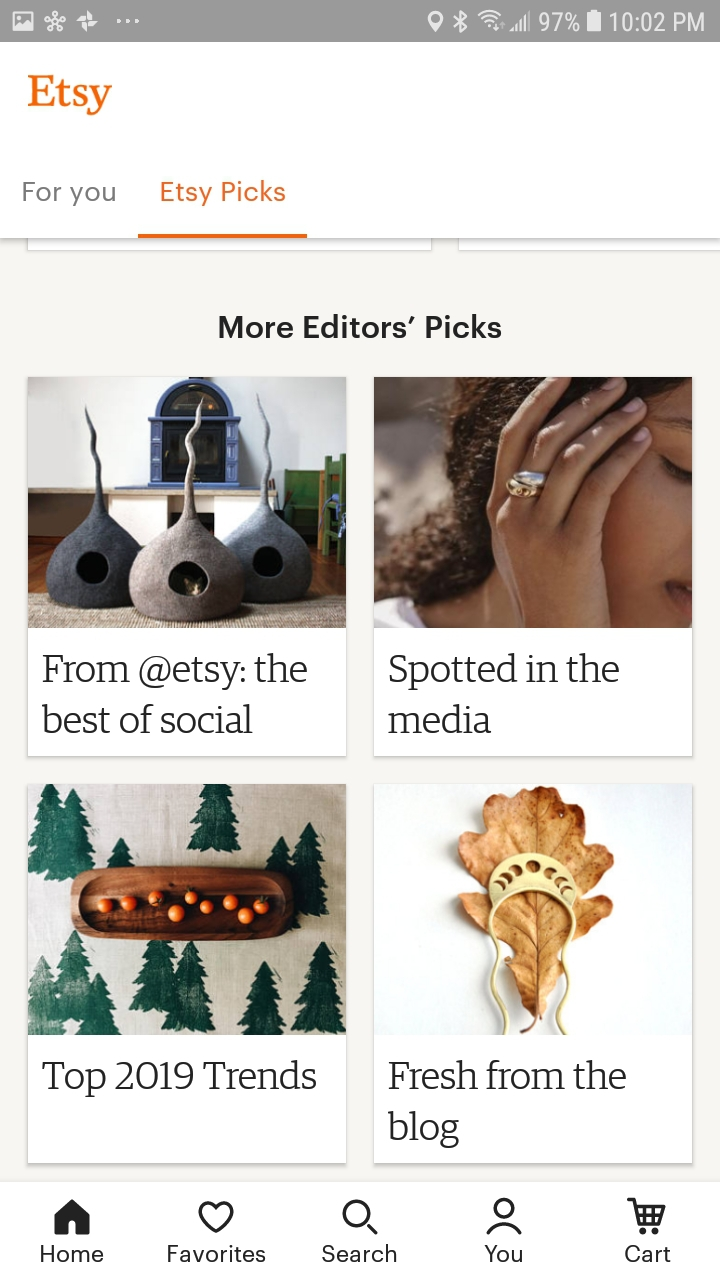Icon: (626, 1196, 666, 1235), (486, 1197, 523, 1236), (341, 1198, 378, 1235), (54, 1199, 91, 1235), (198, 1200, 235, 1233)
Image: (29, 377, 348, 629), (374, 377, 693, 629), (29, 784, 347, 1035), (375, 784, 693, 1035)
Text: (43, 653, 309, 735), (387, 1059, 627, 1149), (388, 652, 620, 734), (42, 1059, 318, 1098), (219, 314, 502, 340), (28, 75, 113, 117), (160, 180, 286, 208), (23, 182, 117, 208), (167, 1244, 266, 1263), (322, 1243, 397, 1263), (41, 1244, 105, 1263), (625, 1244, 671, 1263), (484, 1244, 523, 1263)
UpperTaskBar: (1, 1, 720, 43)
